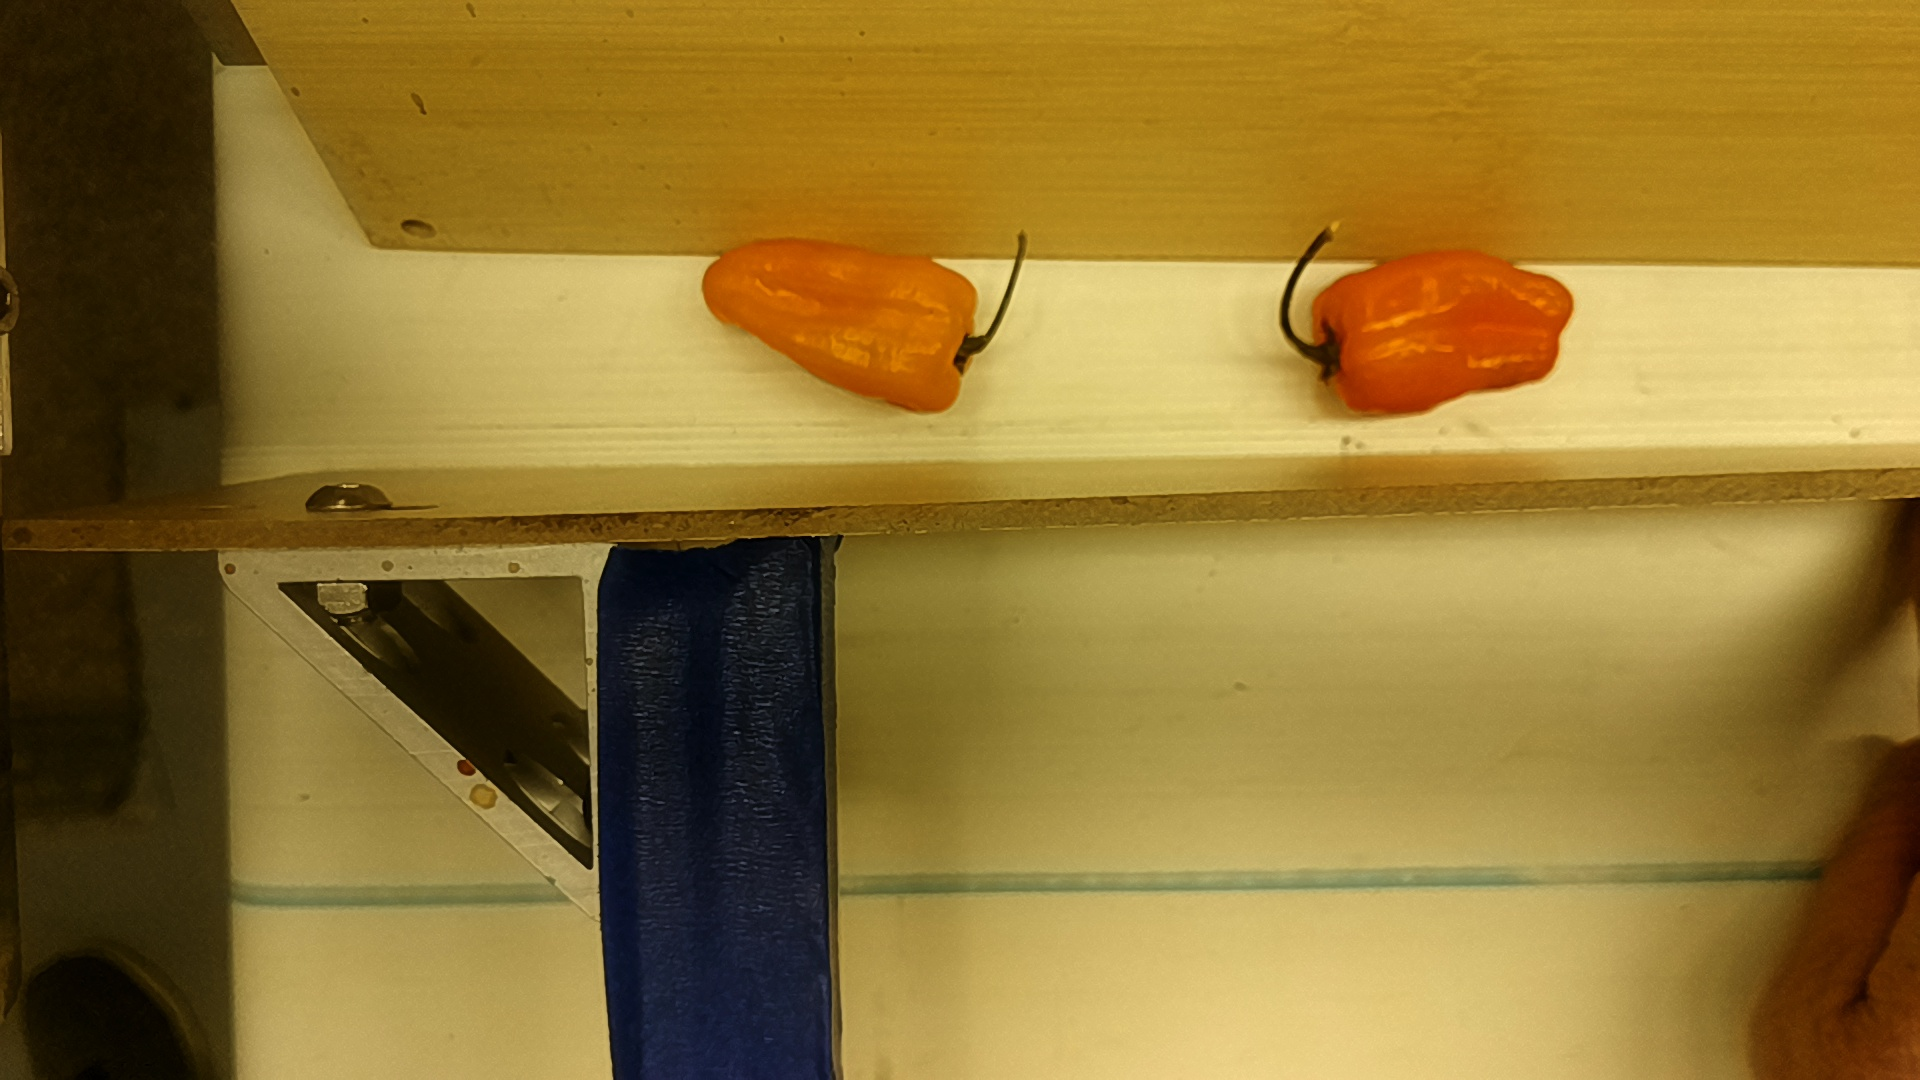Cut Point: (1316, 260, 1365, 429), (932, 251, 980, 417)
